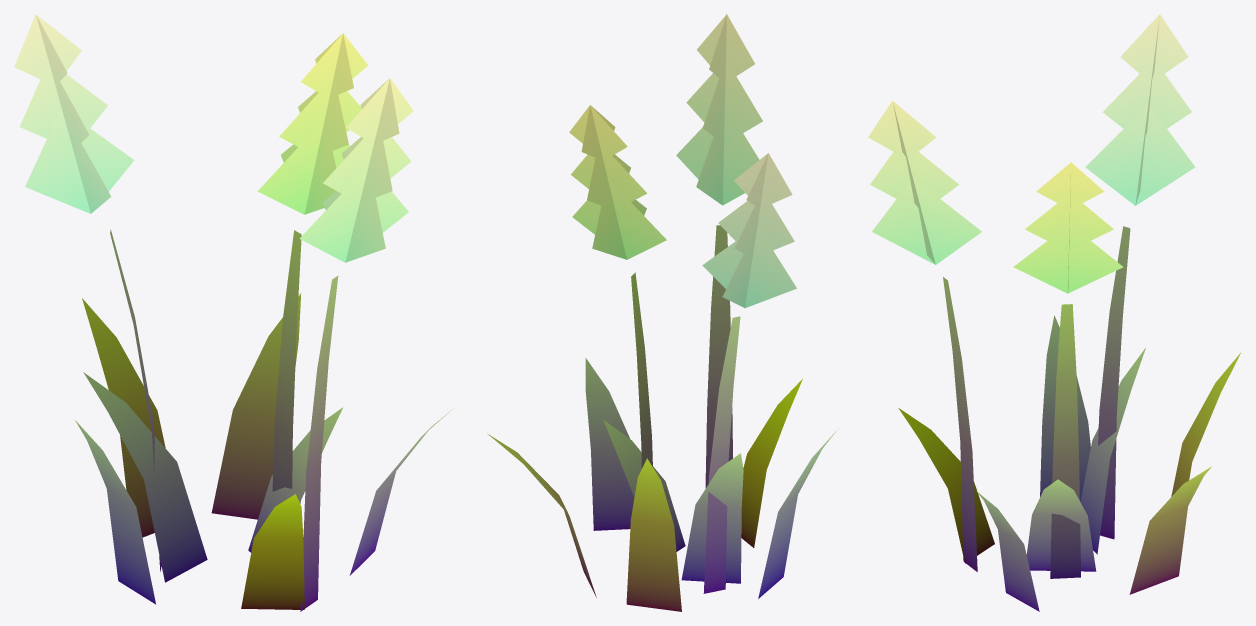
Rendered from flower_grass_b.glb.
3 renders of one model, left to right at view 1: azimuth 30°, elevation 25°; view 2: azimuth 150°, elevation 25°; view 3: azimuth 270°, elevation 25°, orthographic. The views are drawn at different scales.
Visible parts, largest first — view 1: flower_grass_b; view 2: flower_grass_b; view 3: flower_grass_b.
Part boxes in pixels (x1,y1,x2,y2): flower_grass_b: (14, 14, 452, 611); flower_grass_b: (487, 14, 838, 611); flower_grass_b: (868, 14, 1240, 611).
Bounding box in the file's own units: 0.2615 × 0.4048 × 0.2842.
